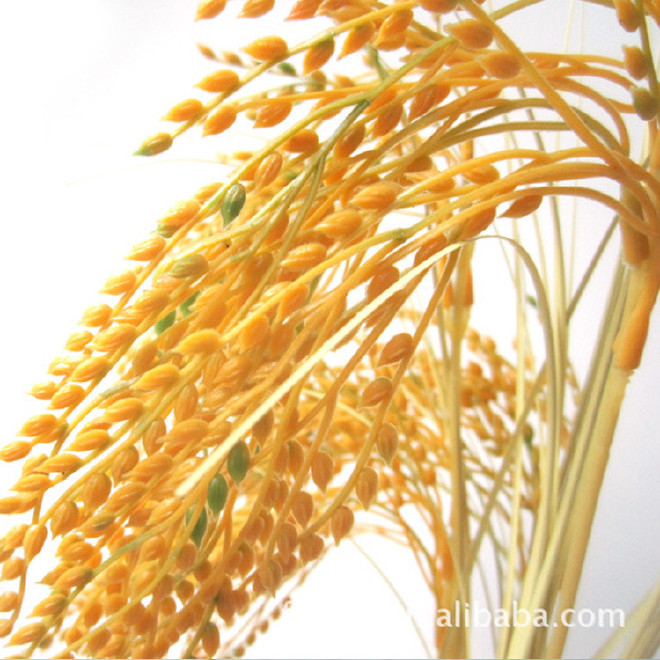rice: (16, 13, 545, 632)
